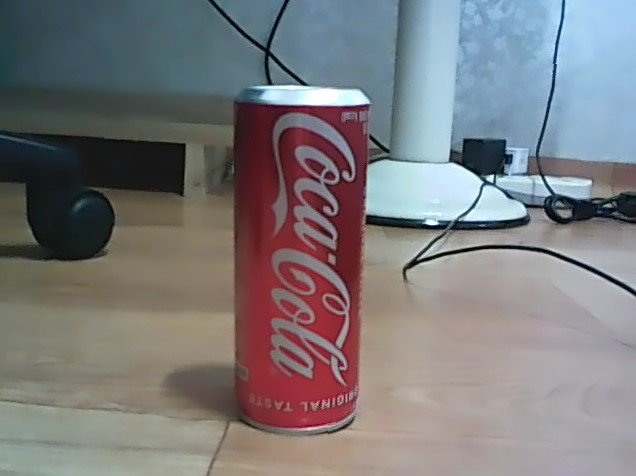Can: (224, 76, 373, 441)
